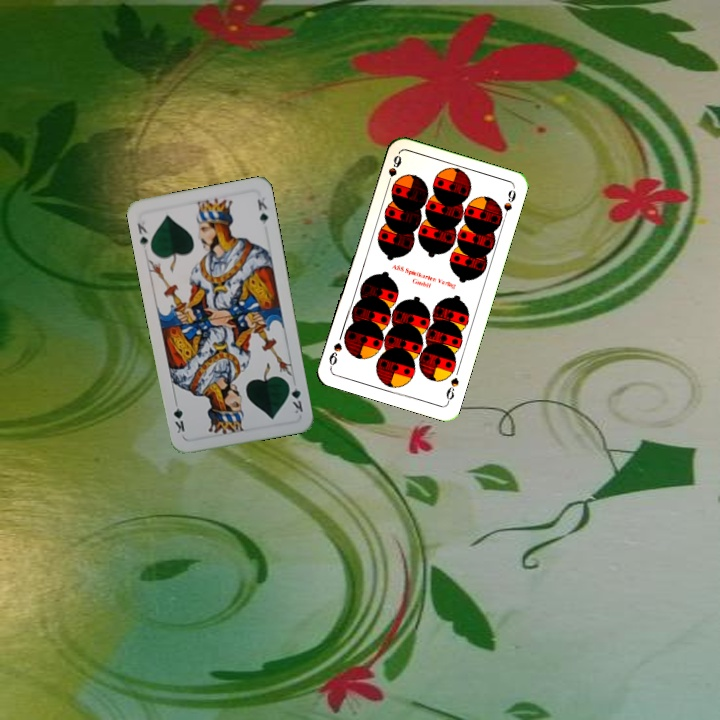GK: (284, 378, 306, 416), (133, 217, 151, 250)
S9: (383, 151, 404, 190), (442, 374, 461, 406)
